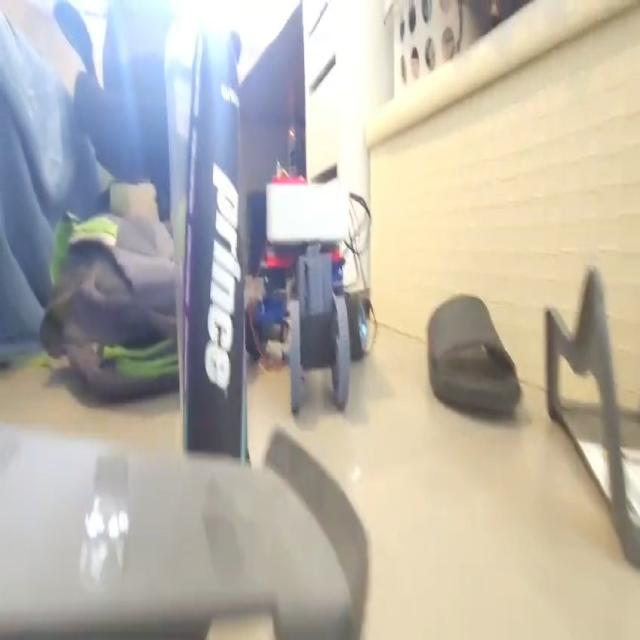Robot: (246, 173, 368, 414)
